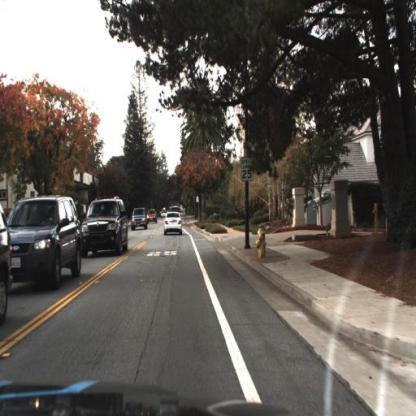car: (5, 194, 85, 292), (81, 195, 130, 259), (164, 211, 183, 238), (132, 206, 150, 233)
